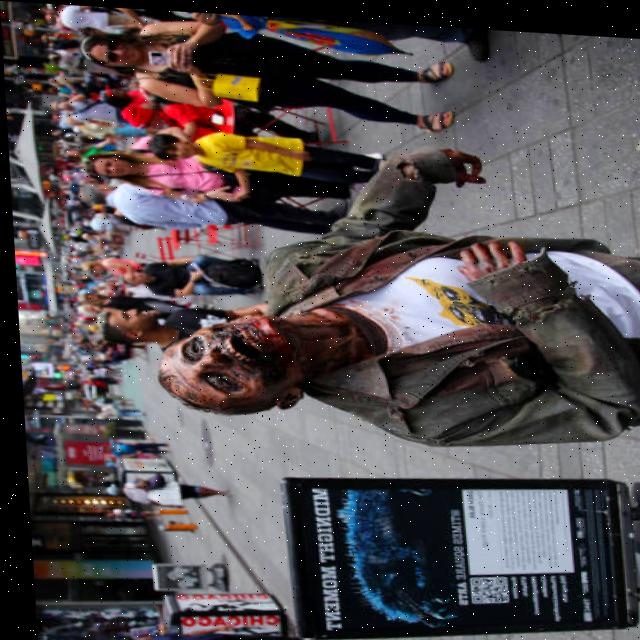Zombie: (155, 312, 309, 415)
human: (102, 304, 158, 344), (91, 29, 145, 70), (148, 128, 200, 160), (91, 150, 136, 179)
